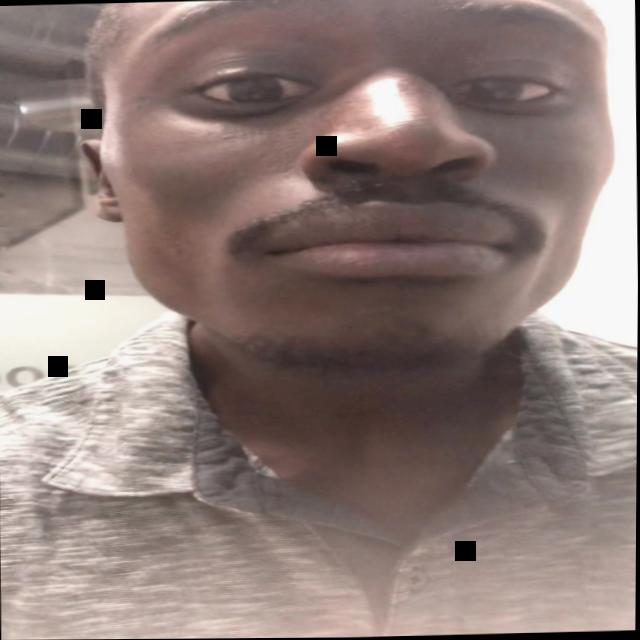NO-Mask: (98, 0, 613, 382)
